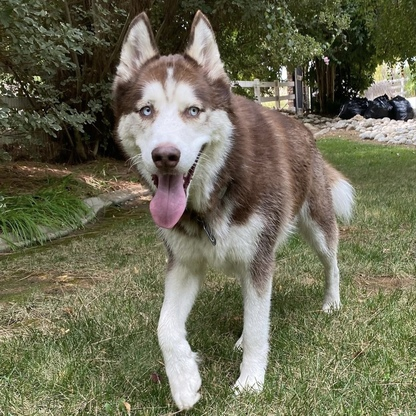husky: (104, 8, 370, 412)
